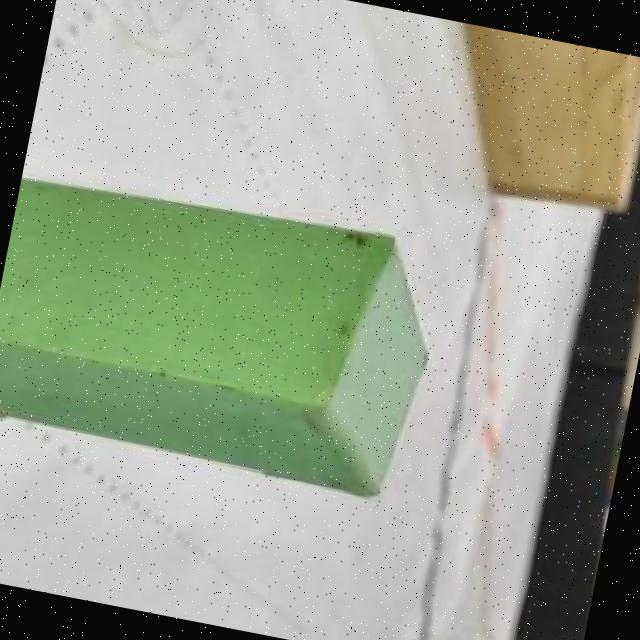greenbox: (0, 156, 458, 511)
